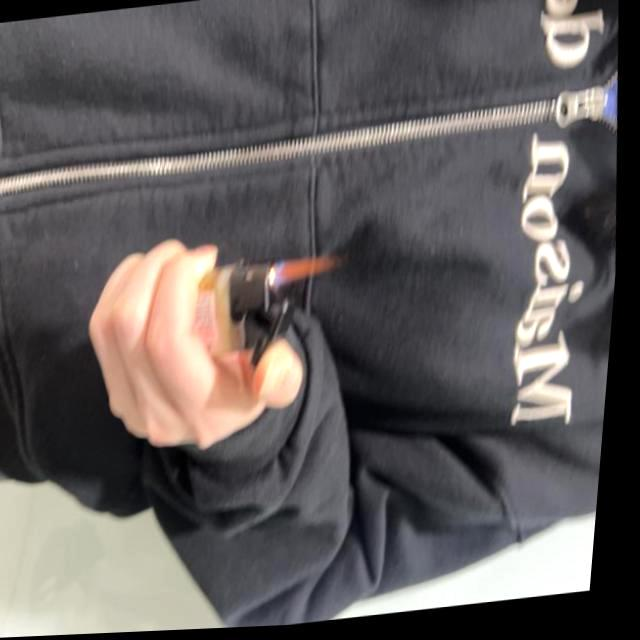fire: (278, 256, 346, 284)
